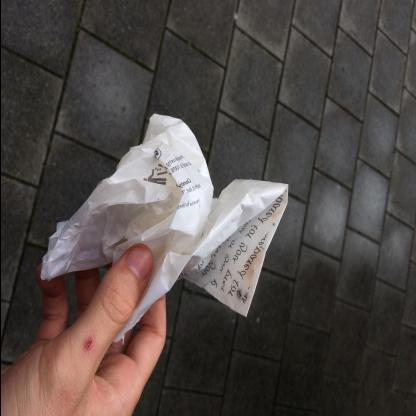plastik: (38, 114, 291, 345)
